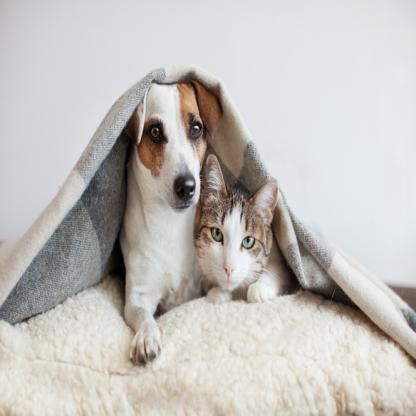cat: (200, 172, 303, 310)
dog: (110, 85, 226, 212)
